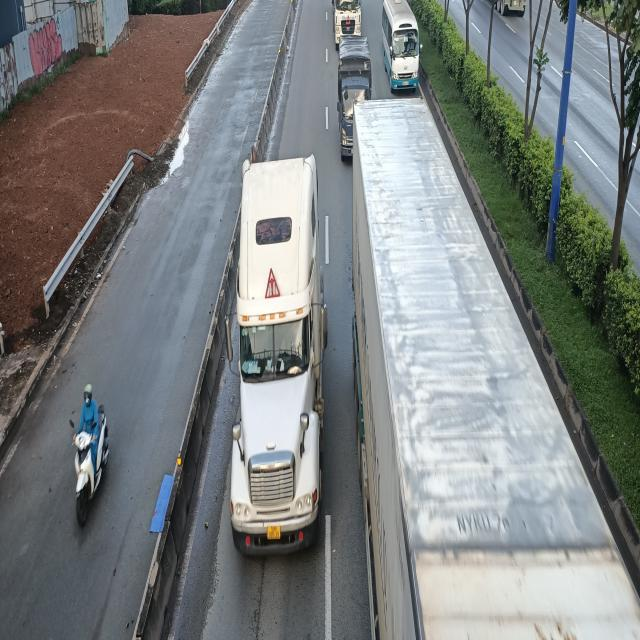coach: (384, 1, 424, 94)
container: (349, 112, 623, 640), (220, 151, 330, 550), (332, 0, 364, 40)
truck: (337, 37, 373, 161)
